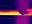Hotspot: (0, 10, 22, 16)
